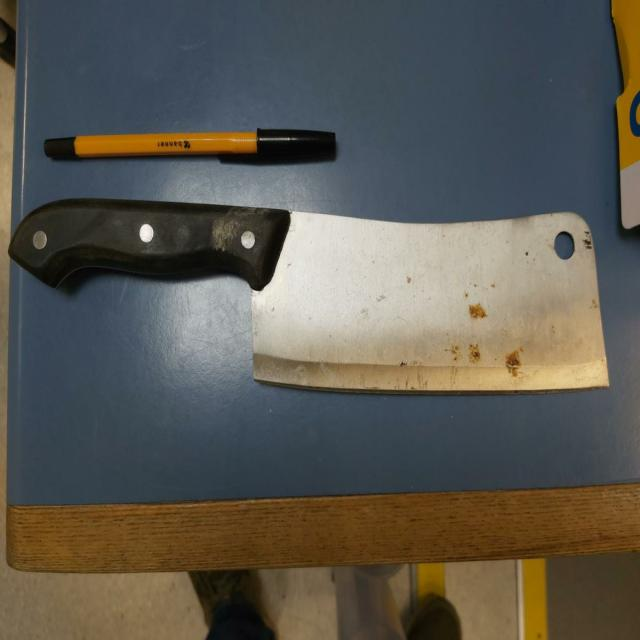Sharp-Object: (8, 201, 609, 395)
